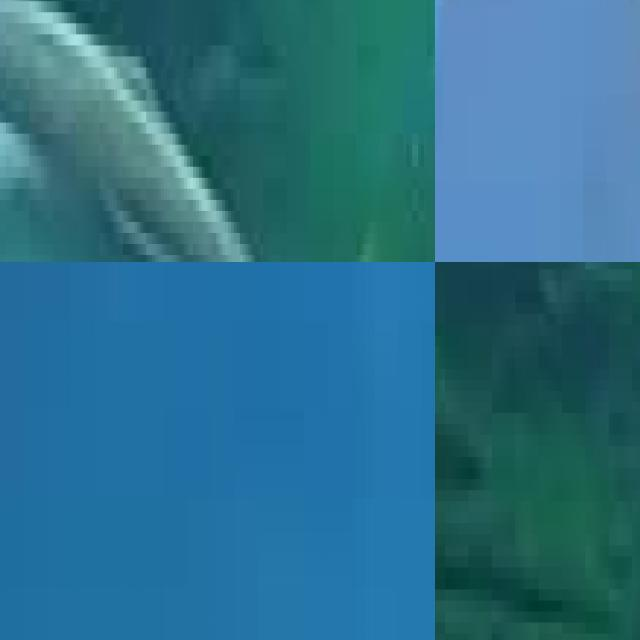fish: (0, 0, 435, 262), (435, 0, 640, 262)
